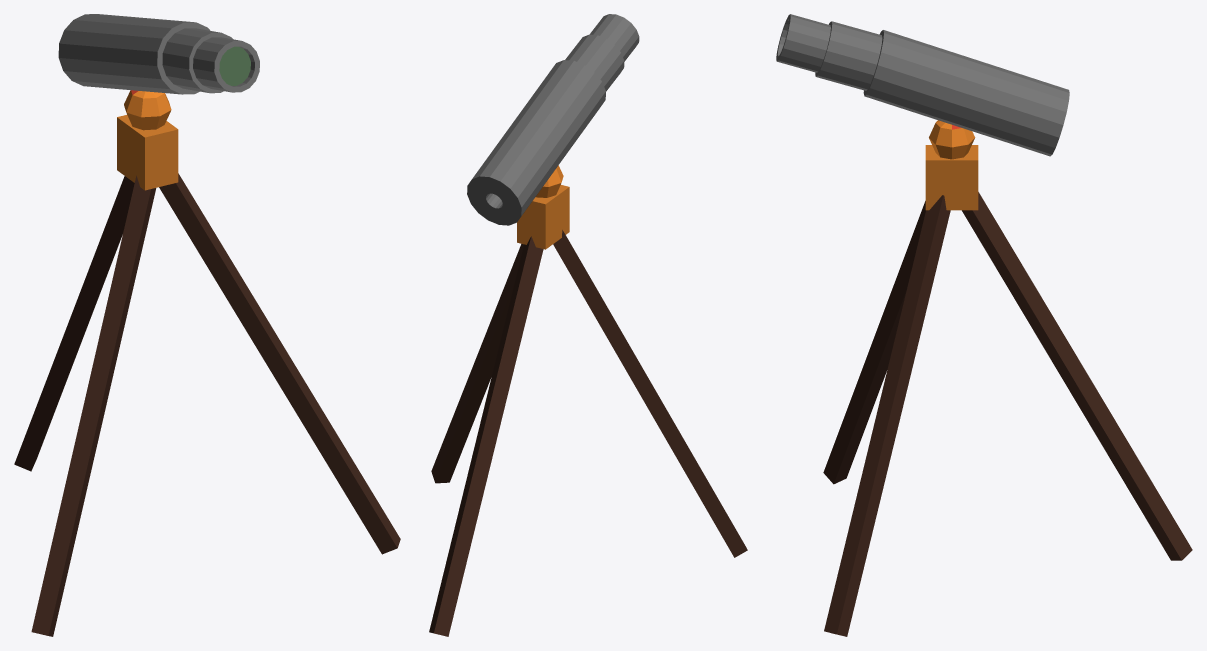
Rendered from telescope.glb.
The picture shows the model from 3 angles, left to right: view 1: azimuth 30°, elevation 25°; view 2: azimuth 150°, elevation 25°; view 3: azimuth 270°, elevation 25°; orthographic projection. The views are drawn at different scales.
Parts seen in each view (by area): view 1: Cylinder; view 2: Cylinder; view 3: Cylinder.
Part boxes in pixels (<box>): Cylinder: <box>14,14,400,636</box>; Cylinder: <box>429,14,747,636</box>; Cylinder: <box>776,14,1192,636</box>.
Size of what is drawn, in the model's own units: 1.39 by 2.08 by 1.44.
2 materials, 2 textured.
